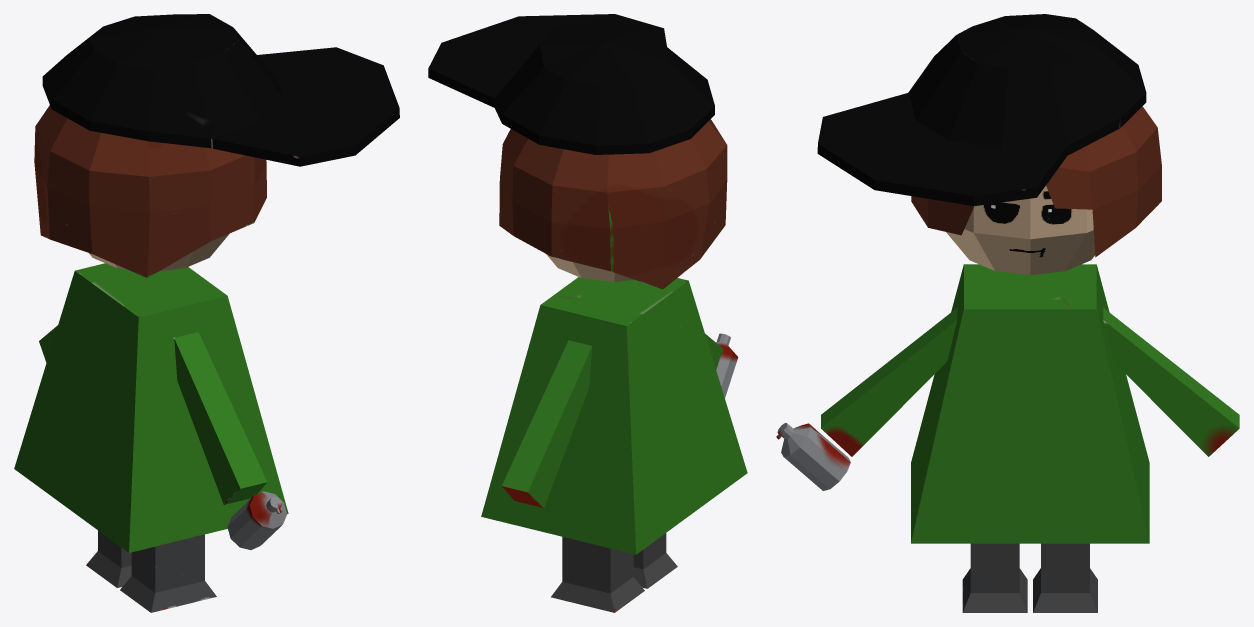
Rendered from adolescente_jogo.fbx.
The picture shows the model from 3 angles, left to right: view 1: azimuth 30°, elevation 25°; view 2: azimuth 150°, elevation 25°; view 3: azimuth 270°, elevation 25°; orthographic projection. The views are drawn at different scales.
Parts seen in each view (by area): view 1: adolescente; view 2: adolescente; view 3: adolescente.
Boxes of the visible parts, x1,y1,x2,y2 form: adolescente: (14, 14, 399, 612); adolescente: (428, 14, 747, 612); adolescente: (776, 14, 1239, 612).
Bounding box in the file's own units: 308 × 531 × 388.
1 material, 1 textured.
